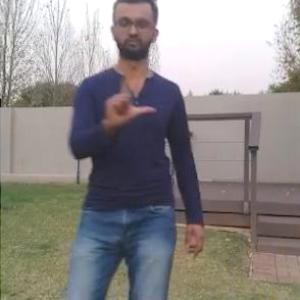land_hand: (99, 63, 159, 133)
